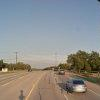Car: (62, 74, 94, 96)
